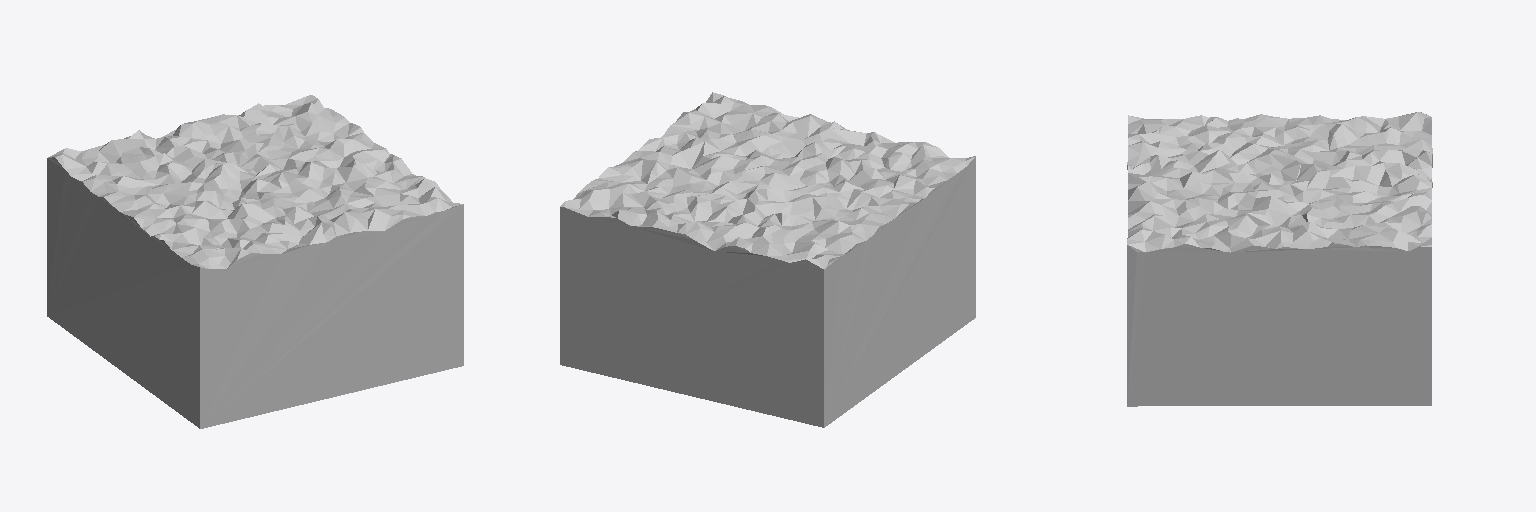
Rendered from water_000018.obj.
3 views of the same model, side by side, from view 1: azimuth 30°, elevation 25°; view 2: azimuth 150°, elevation 25°; view 3: azimuth 270°, elevation 25° (orthographic).
Parts seen in each view (by area): view 1: Plane; view 2: Plane; view 3: Plane.
Part boxes in pixels (x1,y1,x2,y2): Plane: (47, 95, 463, 428); Plane: (560, 92, 975, 427); Plane: (1127, 112, 1432, 406).
Size of the model in its own units: 16.15 by 10.04 by 16.12.